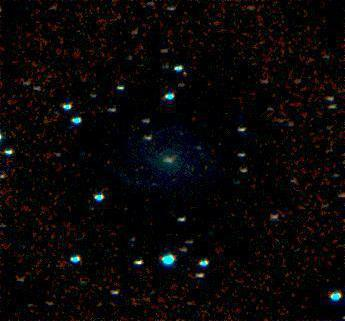star: (187, 131, 217, 161)
